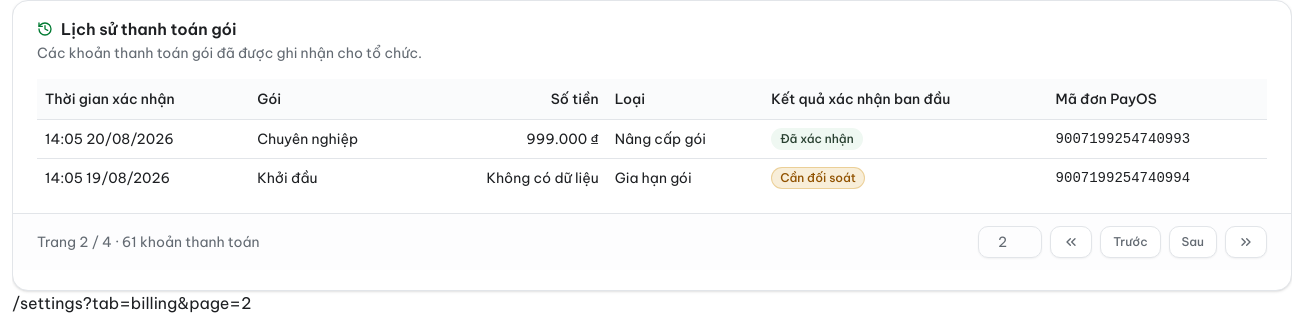
Test: PlanPaymentHistory › reads the page from the URL and updates it through shared pagination
Click the button "Trước".
click(1130, 242)  # box x1=1100 y1=226 x2=1161 y2=258
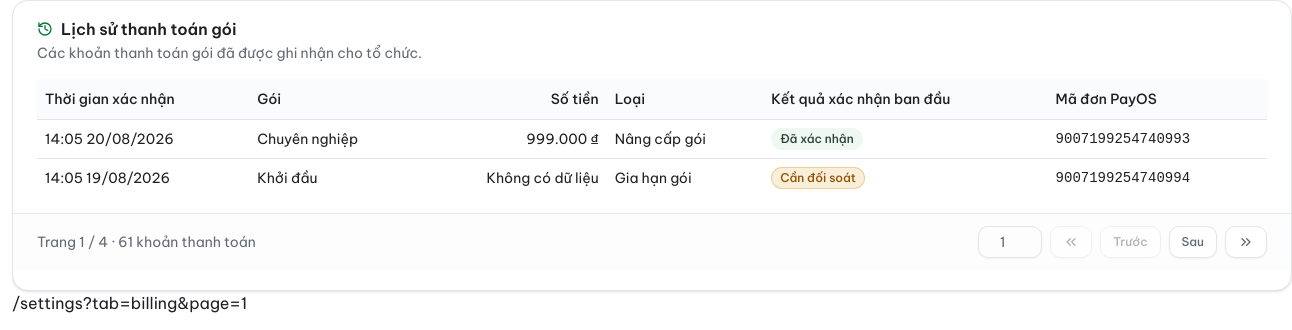
Check: the text with test id "location" reads "/settings?tab=billing&page=1", box x1=12 y1=292 x2=247 y2=312
